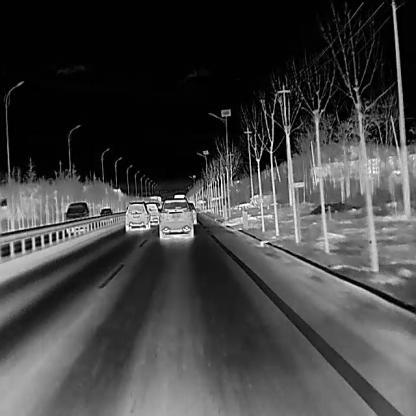car: (157, 197, 195, 239), (123, 199, 149, 232), (64, 201, 89, 232), (144, 201, 160, 224), (98, 206, 111, 222)
